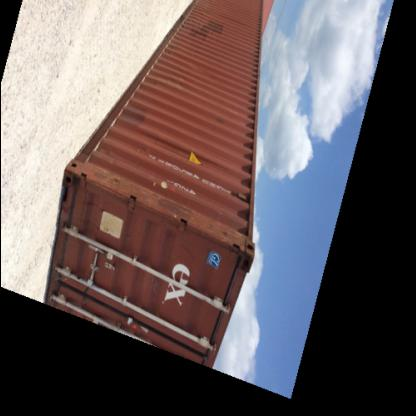Damage: (94, 168, 192, 220), (181, 212, 266, 258)
